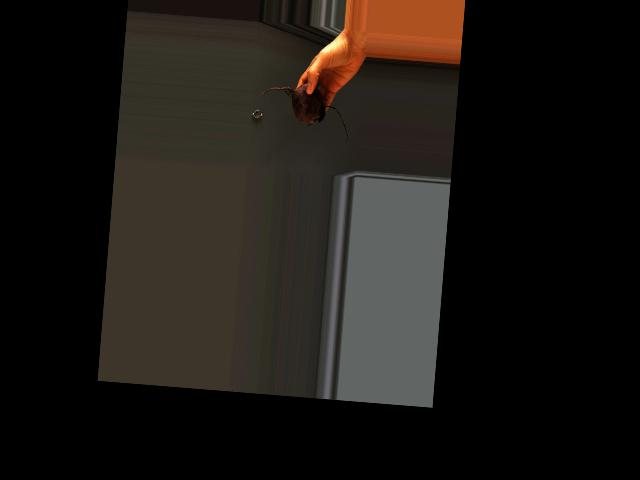beet: (257, 79, 352, 143)
